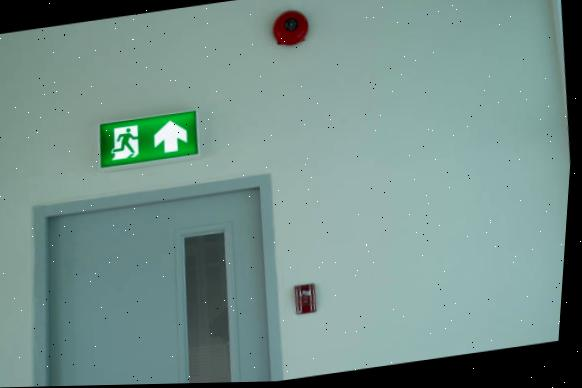emergency_exit: (99, 110, 199, 168)
